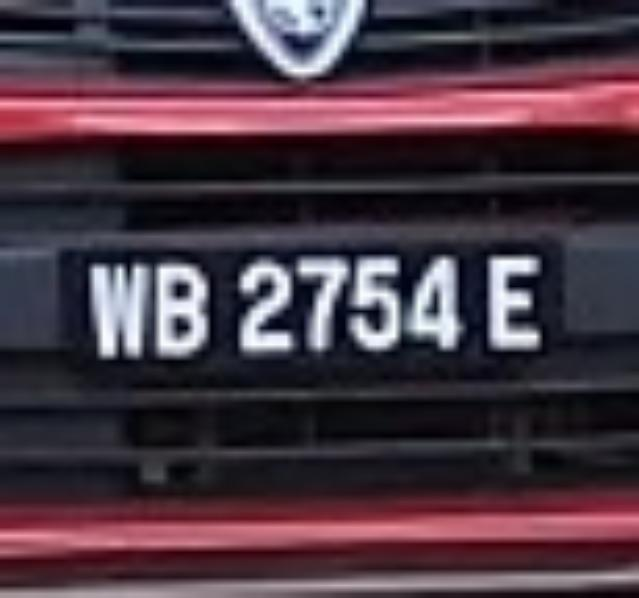License_Plate: (38, 202, 591, 420)
